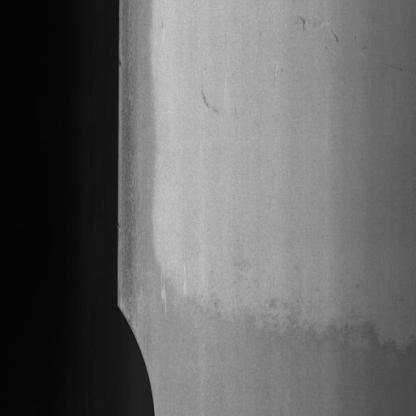crescent_gap: (114, 292, 167, 416)
